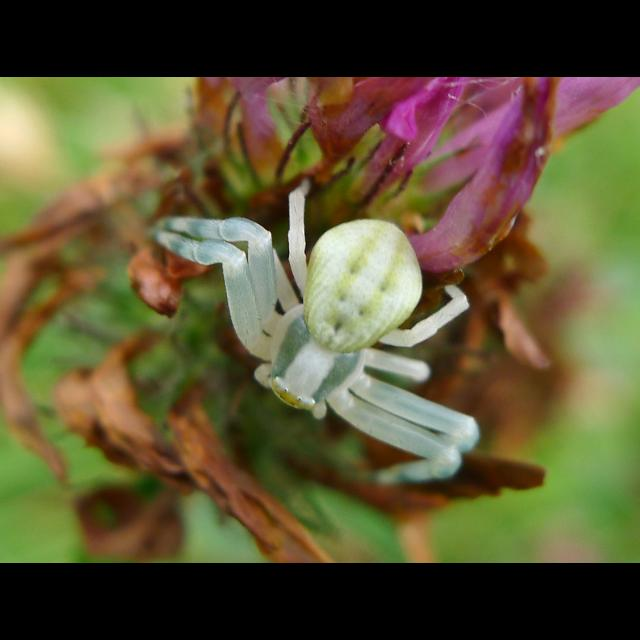Flower: (192, 78, 640, 286)
